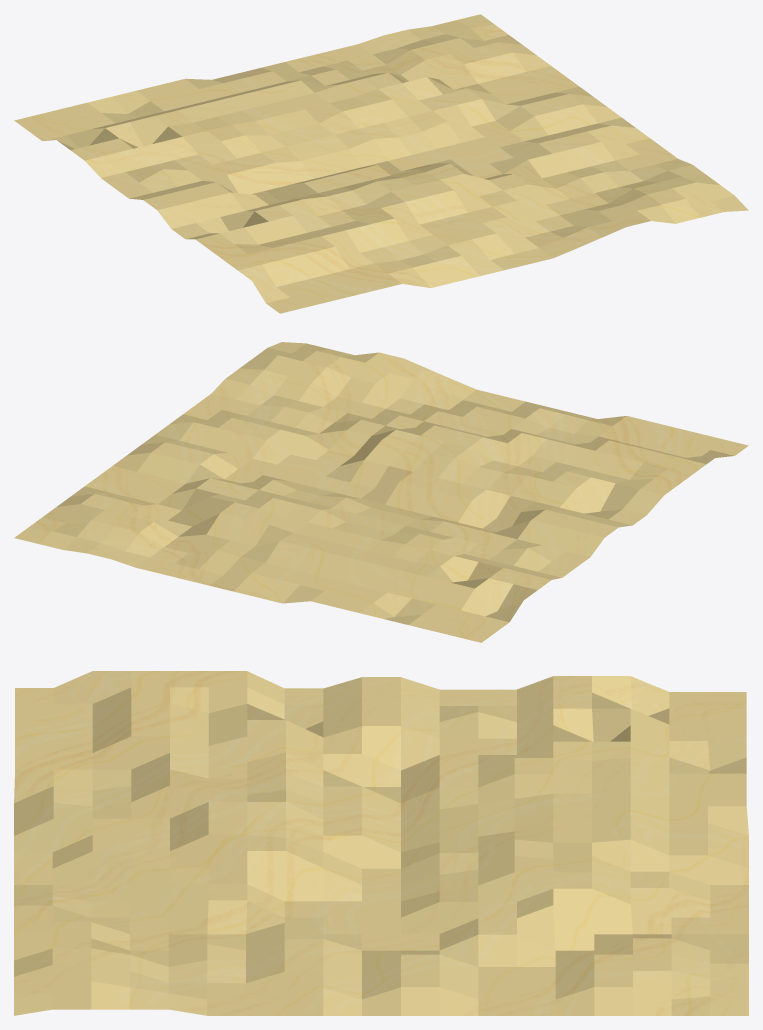
The model's file is sandLand.glb.
The picture shows the model from 3 angles, top to bottom: view 1: azimuth 30°, elevation 25°; view 2: azimuth 150°, elevation 25°; view 3: azimuth 270°, elevation 25°; orthographic projection. The views are drawn at different scales.
Visible parts, largest first — view 1: Plane; view 2: Plane; view 3: Plane.
Part boxes in pixels (<box>): Plane: <box>14,14,748,313</box>; Plane: <box>14,342,748,642</box>; Plane: <box>14,671,748,1015</box>.
Bounding box in the file's own units: 377 × 17.78 × 374.
1 material, 1 textured.
